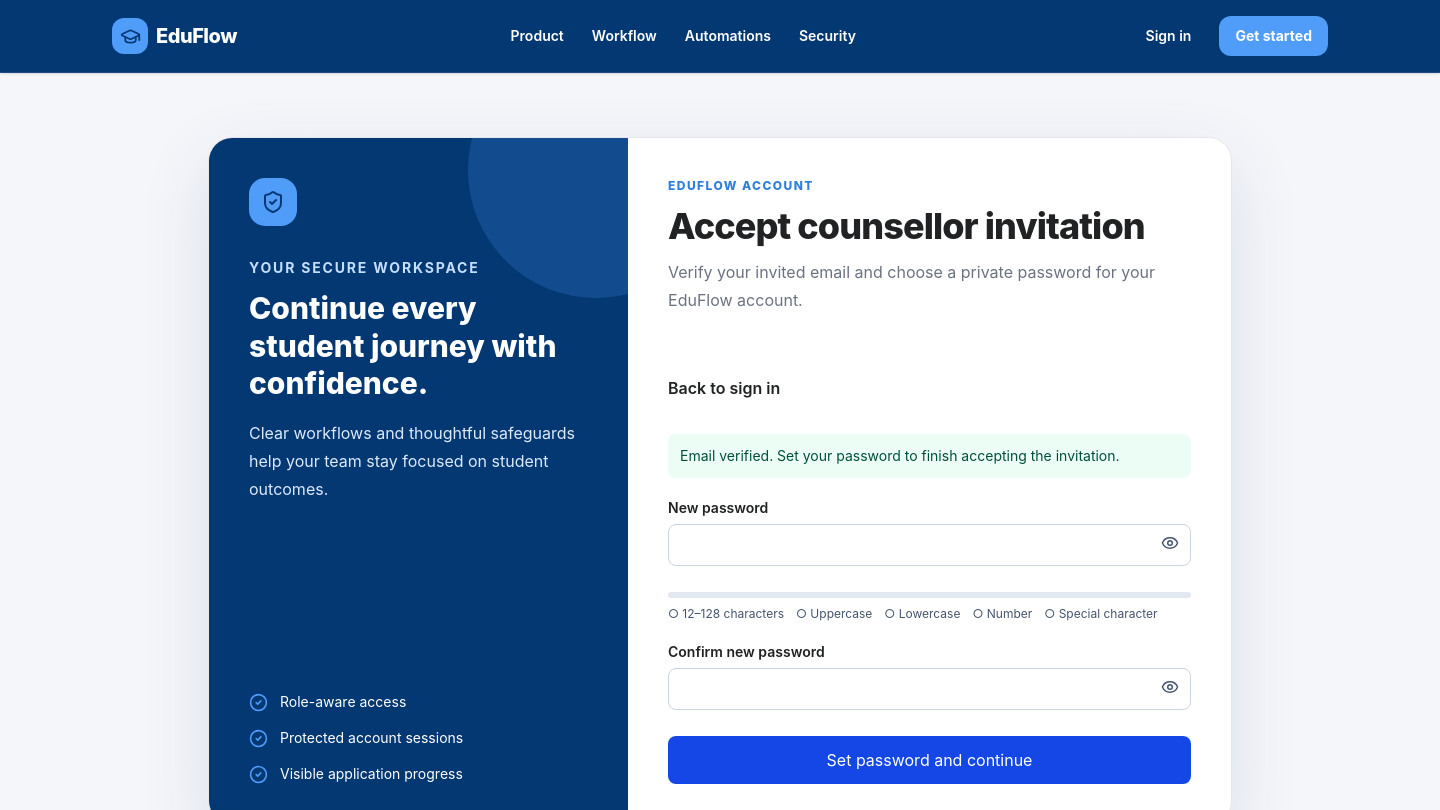
Test: verification and recovery email interfaces › maps setup validation safely without simultaneous success and error alerts
Expected: the text "Email verified. Set your password to finish accepting the invitation." is shown, left=668, top=434, right=1191, bottom=478
In the password field labelled "New password": (930, 545) left=668, top=524, right=1191, bottom=566, type "Private-Setup8!"
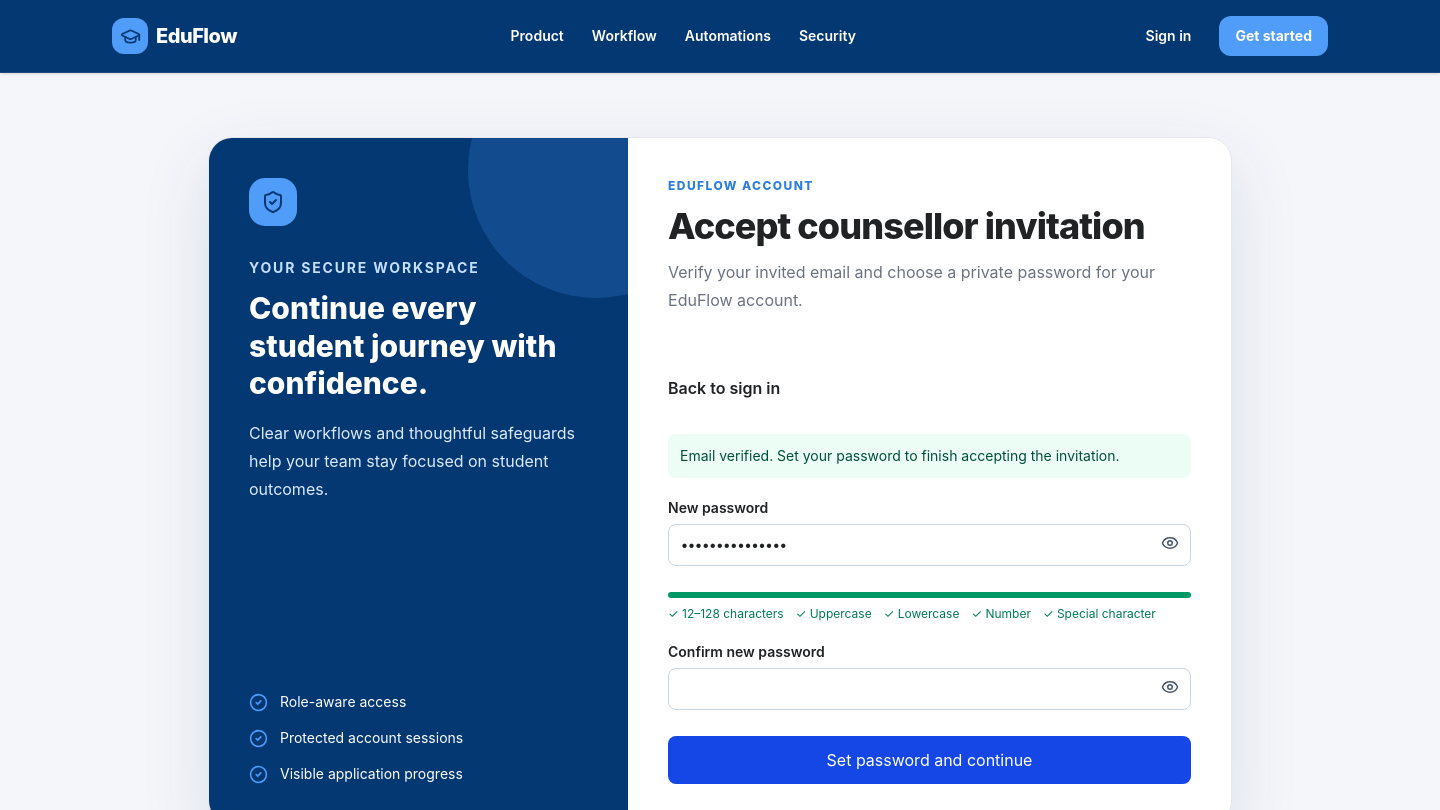
In the password field labelled "Confirm new password": (930, 689) left=668, top=668, right=1191, bottom=710, type "Private-Setup8!"
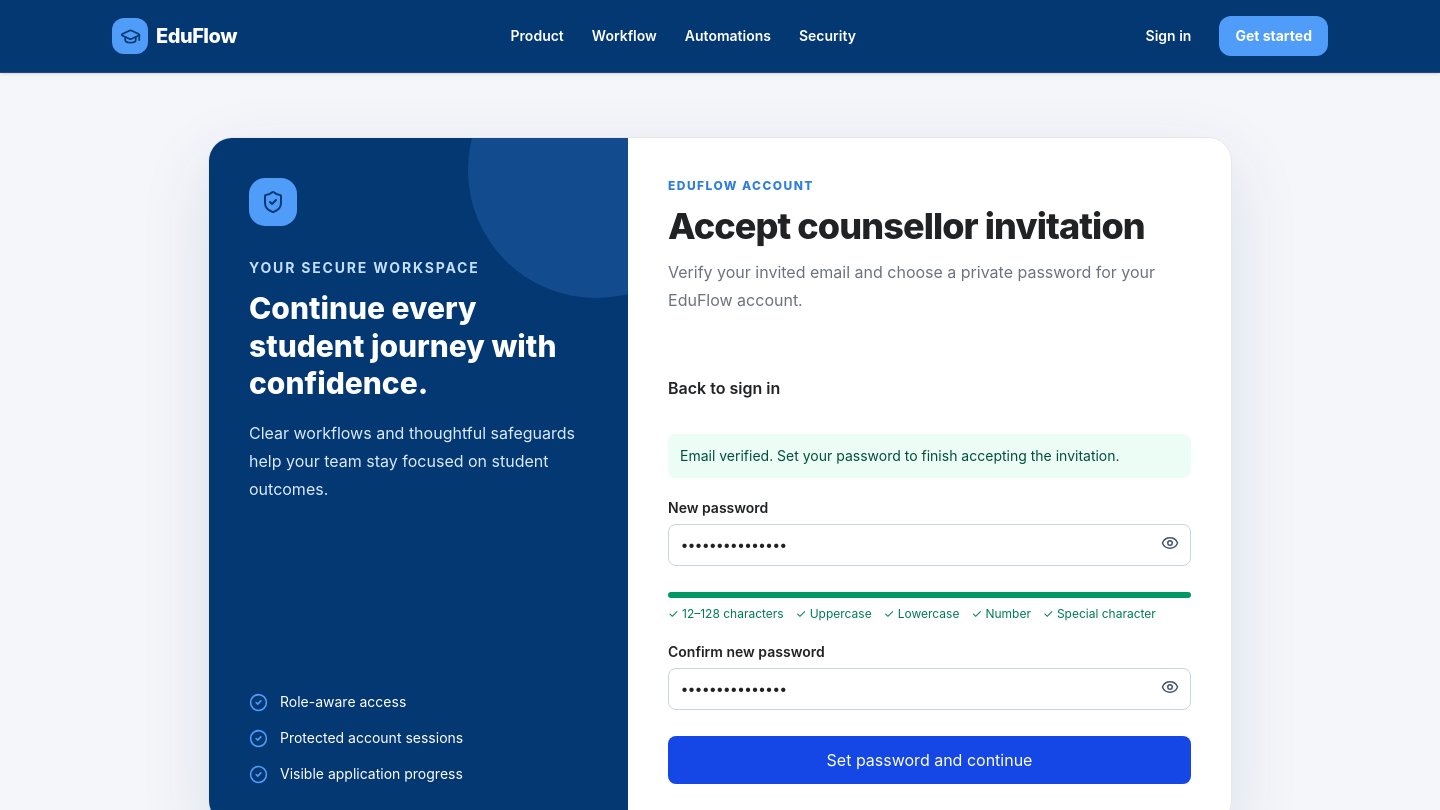
Click the button "Set password and continue": (930, 760) left=668, top=736, right=1191, bottom=784
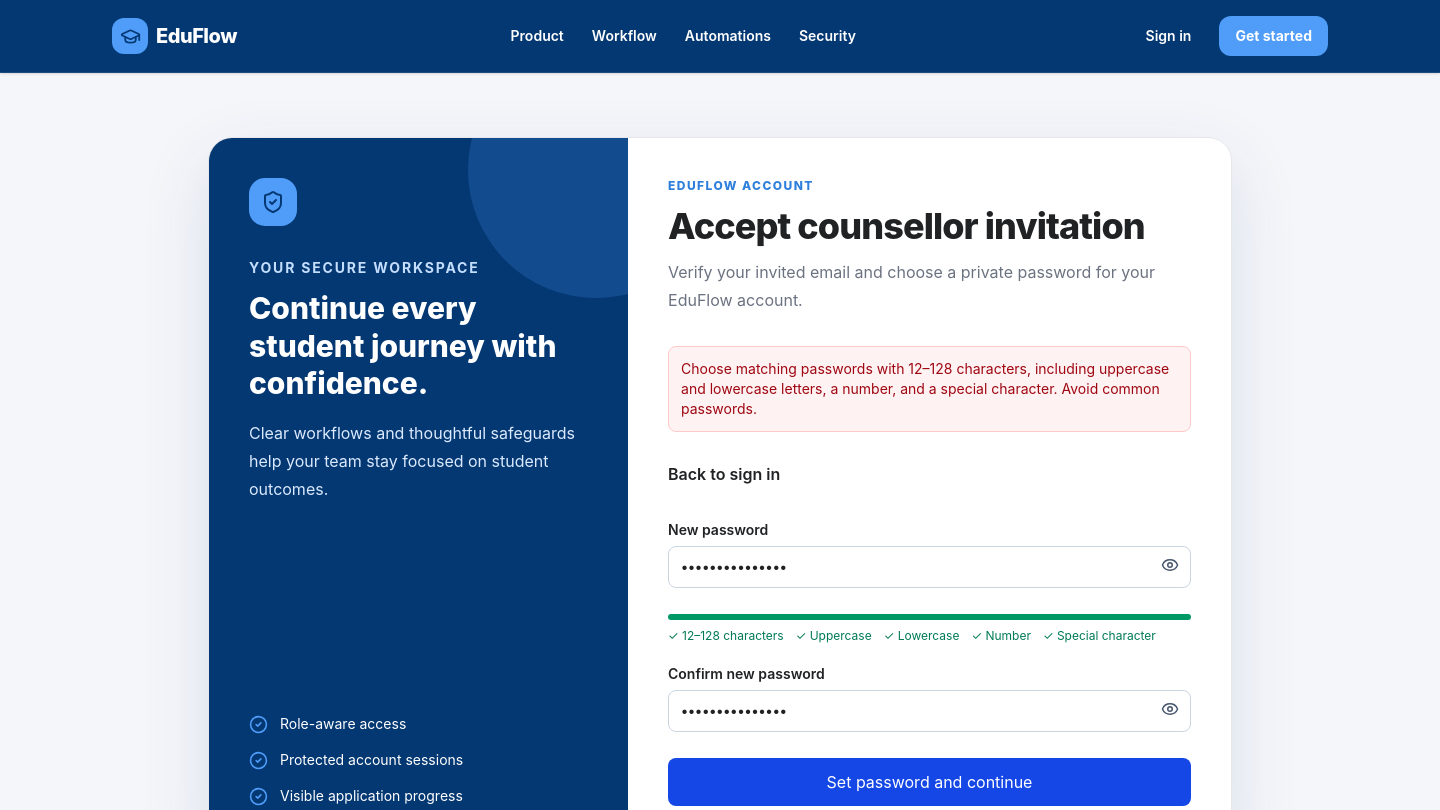
Expected: the button "Set password and continue" is enabled, left=668, top=758, right=1191, bottom=806
Expected: the message shows "Avoid common passwords", left=681, top=360, right=1169, bottom=417
